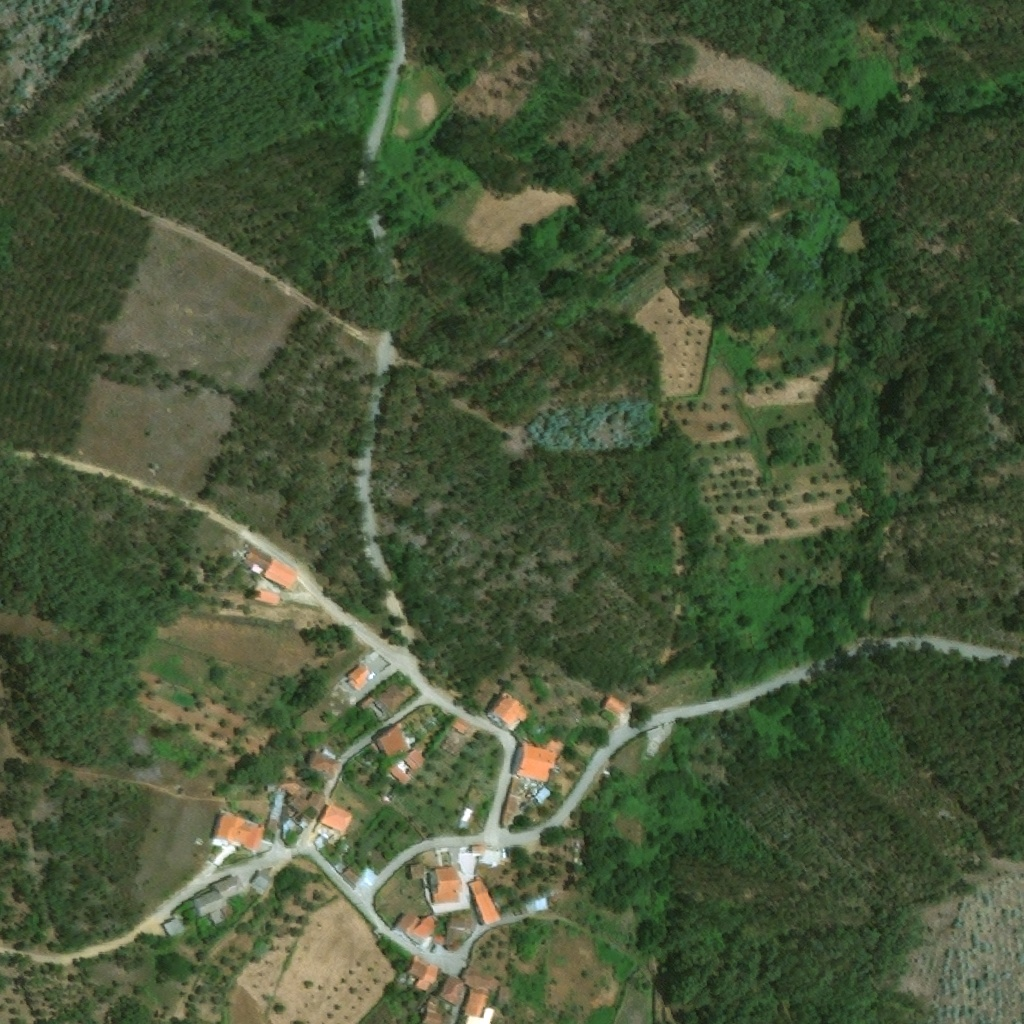0 no-damage: (216, 813, 265, 852), (516, 743, 557, 782), (468, 880, 500, 925), (194, 891, 228, 924), (492, 696, 529, 726), (432, 867, 462, 904), (408, 957, 439, 992), (263, 559, 298, 590), (393, 914, 437, 938), (458, 967, 493, 996), (444, 916, 477, 946), (379, 728, 409, 759), (244, 547, 273, 575), (439, 976, 465, 1007), (378, 684, 407, 711), (311, 753, 343, 777), (422, 996, 450, 1023), (322, 808, 353, 832), (290, 791, 322, 814), (214, 876, 246, 898), (466, 989, 488, 1018), (349, 665, 371, 691), (645, 722, 675, 741), (604, 696, 628, 718), (521, 896, 548, 915), (161, 918, 185, 938), (389, 765, 411, 786), (251, 871, 273, 890), (468, 1008, 495, 1023), (508, 778, 528, 798), (342, 867, 362, 887), (280, 779, 302, 796), (459, 807, 475, 828), (408, 750, 425, 767), (498, 988, 515, 1005), (535, 787, 552, 803), (505, 795, 522, 811), (452, 720, 470, 734), (314, 823, 332, 837), (404, 756, 419, 772), (502, 812, 515, 828), (410, 865, 424, 879), (362, 695, 376, 708), (471, 845, 485, 852)
